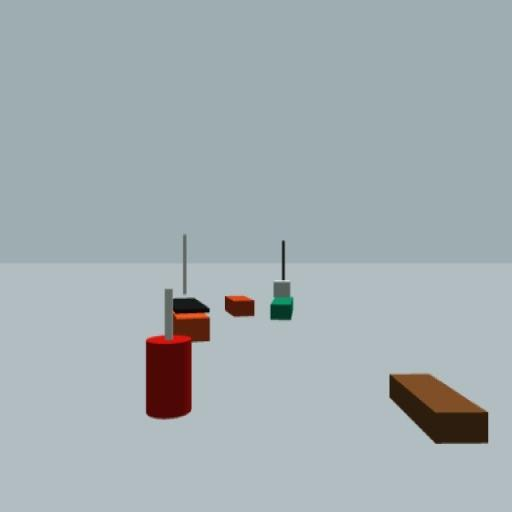debris_container: (389, 371, 488, 446), (222, 294, 254, 318)
fishing_boat: (270, 240, 294, 320)
floating_obstacle: (146, 289, 190, 420)
vessel: (172, 236, 210, 342)
